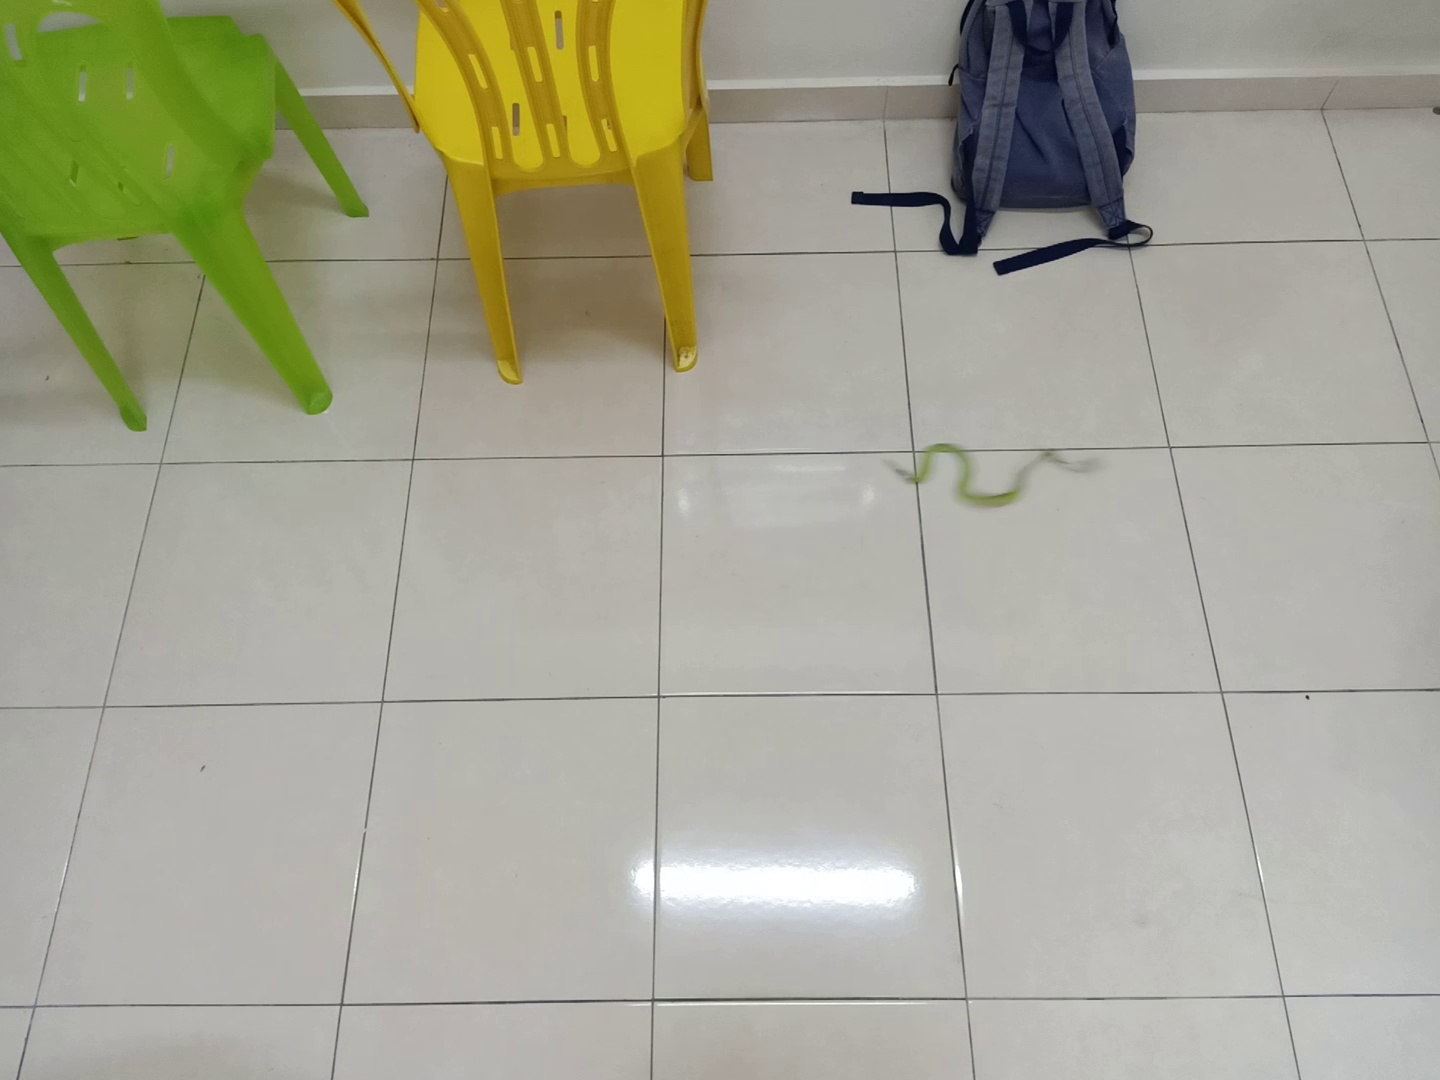snake: (884, 432, 1116, 513)
